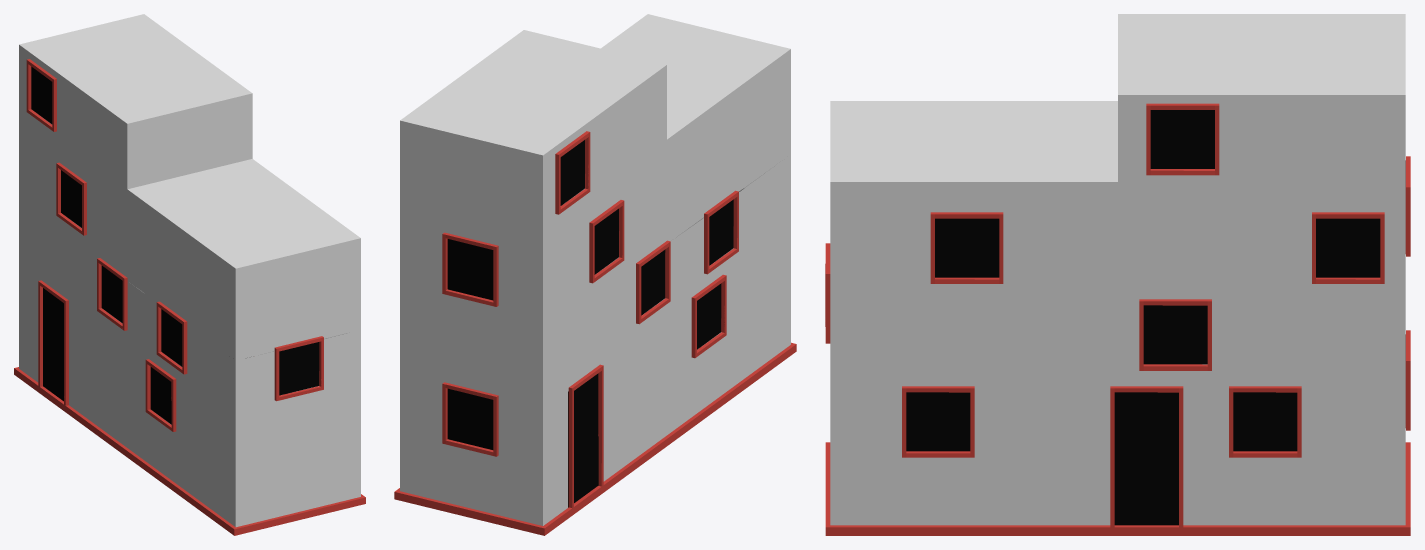
The model's file is largeapartments.glb.
3 renders of one model, left to right at view 1: azimuth 30°, elevation 25°; view 2: azimuth 150°, elevation 25°; view 3: azimuth 270°, elevation 25°, orthographic. The views are drawn at different scales.
Visible parts, largest first — view 1: Cube, Cube.016, Cube.015, Cube.007, Cube.001, Cube.006, Cube.009, Cube.018, Cube.014, Cube.013; view 2: Cube, Cube.016, Cube.015, Cube.007, Cube.003, Cube.010, Cube.009, Cube.018, Cube.013, Cube.006, Cube.014; view 3: Cube, Cube.016, Cube.015, Cube.008, Cube.017, Cube.005, Cube.002, Cube.004, Cube.012, Cube.011.
Boxes of the visible parts, left/top/right/bottom form: Cube: left=19, top=110, right=360, bottom=527; Cube.016: left=19, top=14, right=252, bottom=189; Cube.015: left=14, top=367, right=365, bottom=535; Cube.007: left=38, top=280, right=68, bottom=405; Cube.001: left=274, top=336, right=323, bottom=401; Cube.006: left=156, top=301, right=187, bottom=374; Cube.009: left=145, top=359, right=176, bottom=431; Cube.018: left=26, top=59, right=56, bottom=131; Cube.014: left=97, top=258, right=127, bottom=330; Cube.013: left=56, top=162, right=86, bottom=235; Cube: left=400, top=14, right=790, bottom=525; Cube.016: left=400, top=30, right=666, bottom=230; Cube.015: left=394, top=342, right=796, bottom=535; Cube.007: left=568, top=364, right=603, bottom=507; Cube.003: left=442, top=382, right=498, bottom=456; Cube.010: left=442, top=232, right=498, bottom=306; Cube.009: left=691, top=274, right=726, bottom=358; Cube.018: left=555, top=131, right=590, bottom=214; Cube.013: left=589, top=200, right=624, bottom=283; Cube.006: left=704, top=190, right=738, bottom=274; Cube.014: left=636, top=240, right=670, bottom=324; Cube: left=830, top=101, right=1405, bottom=525; Cube.016: left=1118, top=14, right=1405, bottom=181; Cube.015: left=825, top=442, right=1410, bottom=535; Cube.008: left=1110, top=386, right=1183, bottom=531; Cube.017: left=1146, top=103, right=1219, bottom=175; Cube.005: left=930, top=212, right=1003, bottom=283; Cube.002: left=1229, top=386, right=1301, bottom=457; Cube.004: left=902, top=386, right=974, bottom=457; Cube.012: left=1139, top=299, right=1211, bottom=370; Cube.011: left=1312, top=212, right=1384, bottom=283.
Size of the model in its own units: 2.1 by 5.05 by 6.1.
